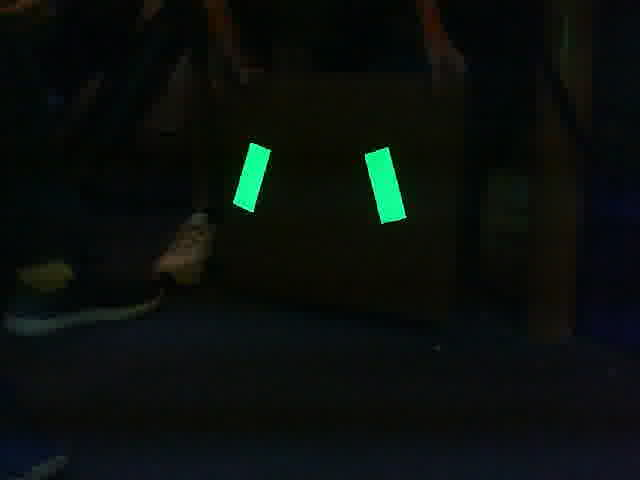target: (232, 140, 409, 227)
